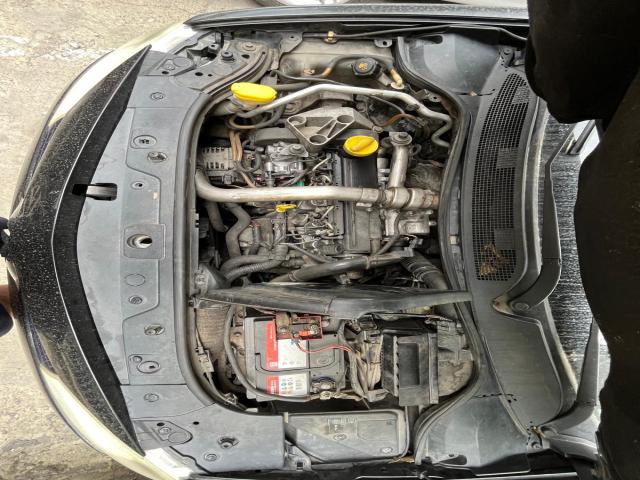accumulator: (243, 311, 345, 397), (247, 392, 272, 401)
alternator: (202, 146, 243, 185)
antifreeze_tank: (278, 38, 392, 77), (327, 59, 385, 85)
fuse_box: (275, 398, 408, 463)
high_pressure_pump: (263, 142, 305, 178)
